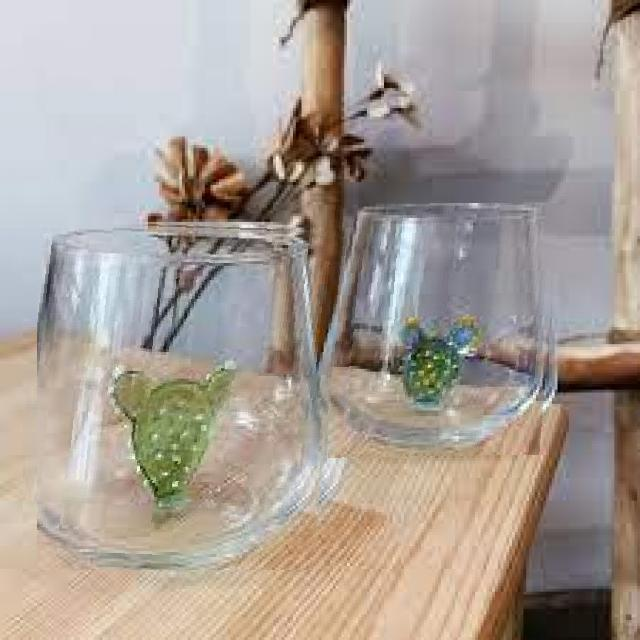Glass: (37, 220, 347, 570), (328, 203, 560, 458)
